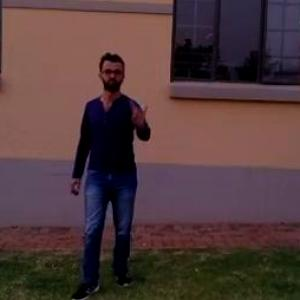takeoff-hand: (126, 97, 156, 133)
